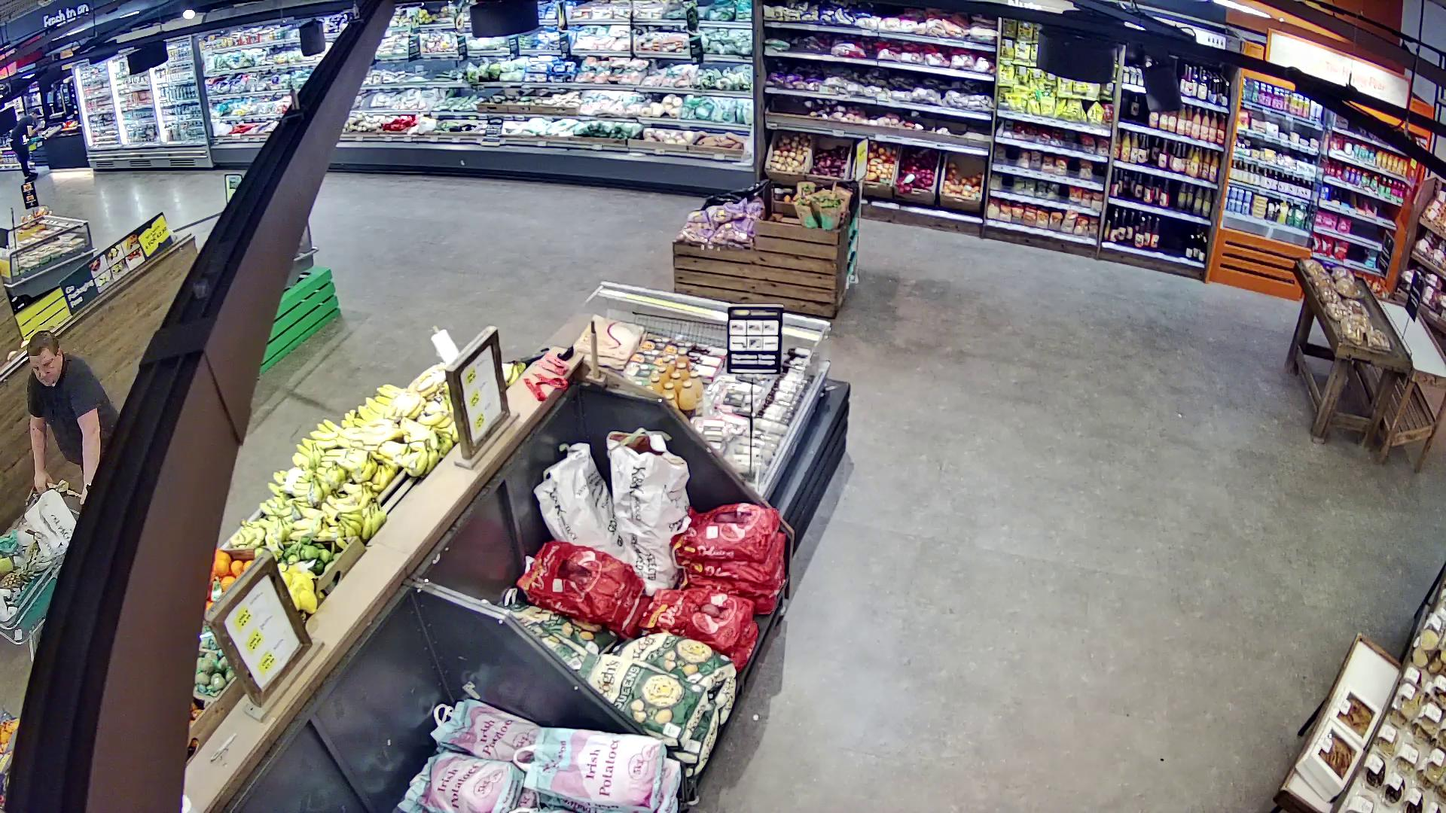filled-trolly: (0, 480, 97, 644)
person: (26, 334, 123, 503)
person-with-filled-basket-trolly: (0, 333, 123, 644)
